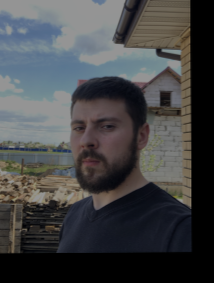without_mask: (69, 109, 129, 194)
